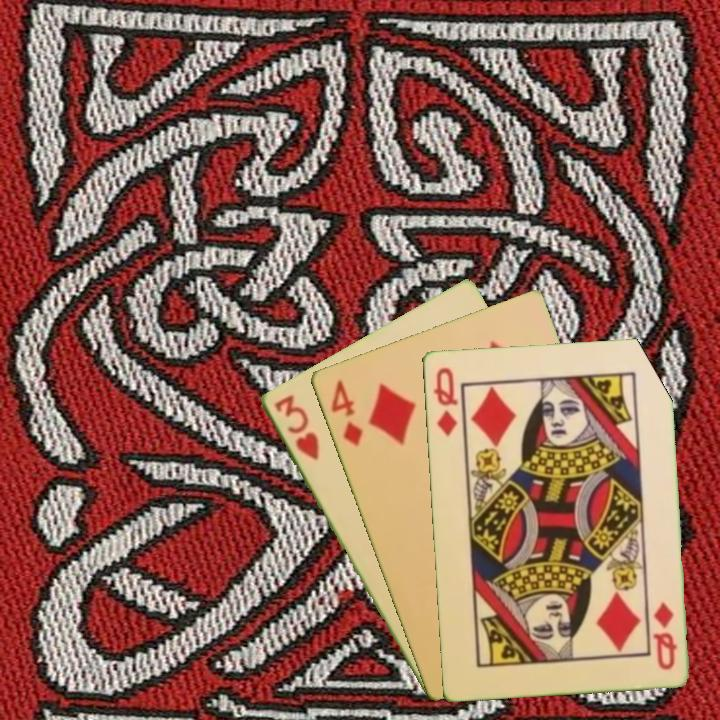3h: (270, 390, 322, 464)
4d: (327, 375, 365, 449)
Qd: (430, 363, 461, 439), (648, 598, 679, 673)
